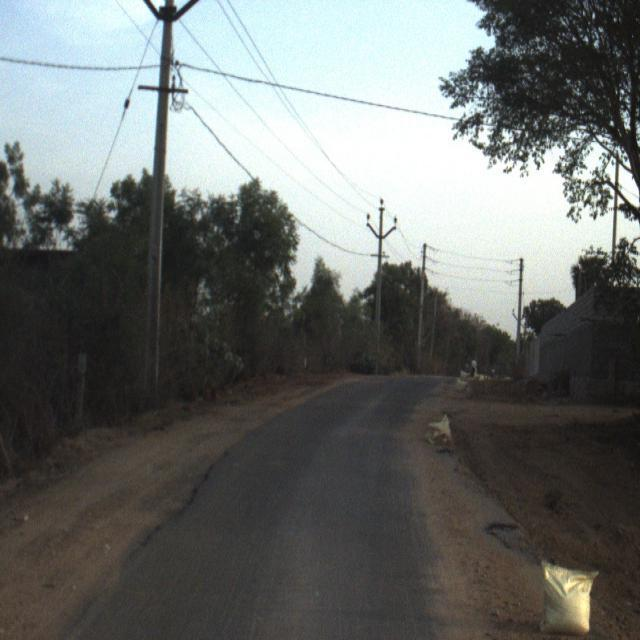Pothole: (451, 507, 544, 569), (399, 406, 466, 461)
